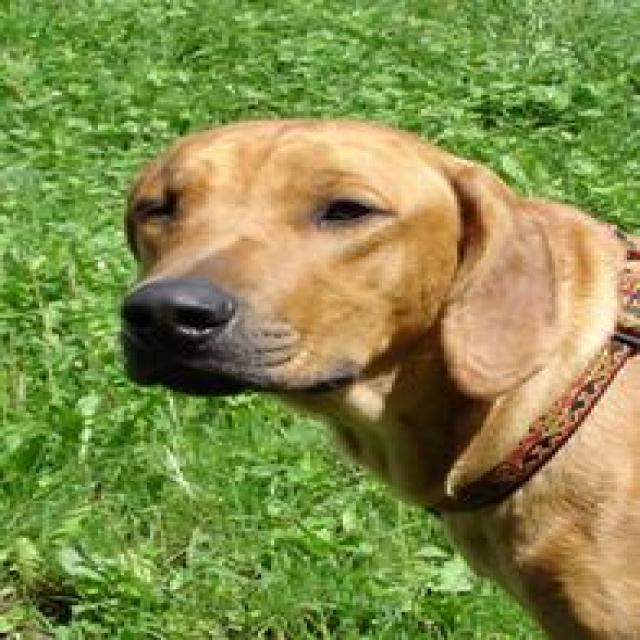rhodesian_ridgeback: (108, 116, 636, 638)
